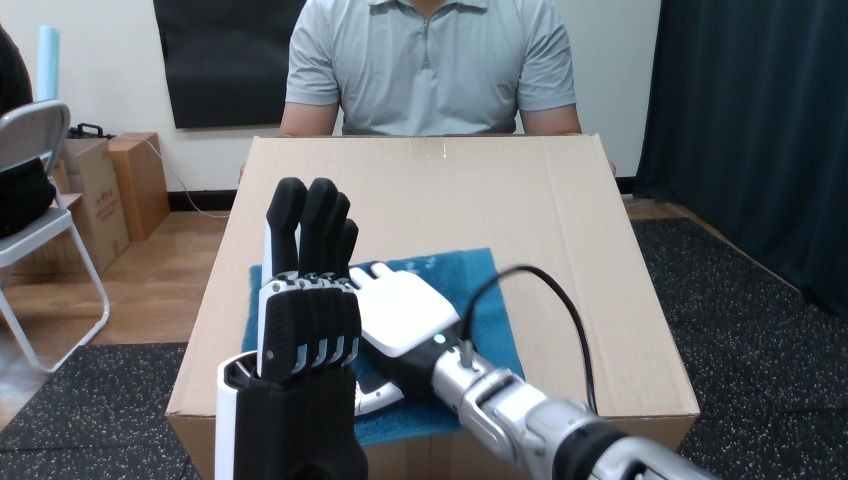left robot hand: (215, 177, 714, 479), (469, 270, 591, 406)
